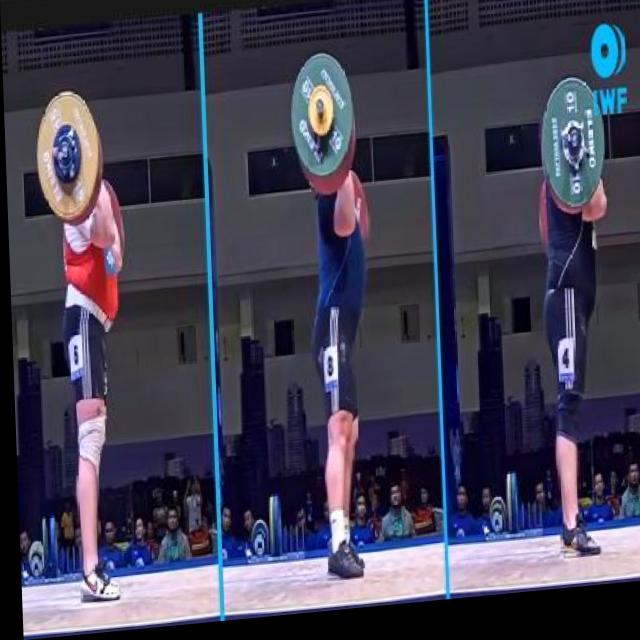barbell: (534, 82, 609, 231), (283, 55, 360, 192), (32, 87, 103, 229)
